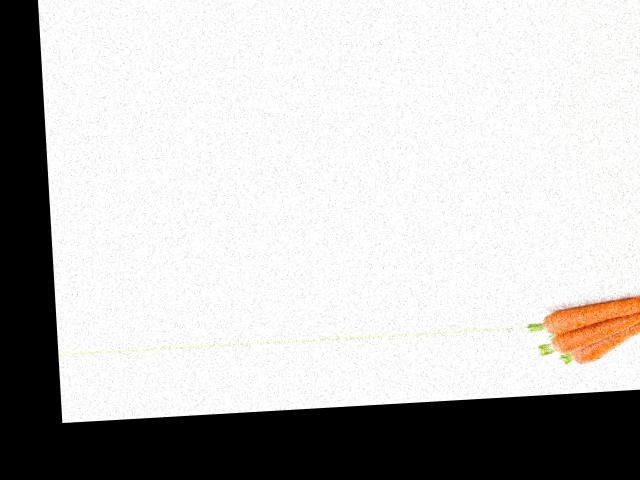carrot: (533, 296, 640, 332)
